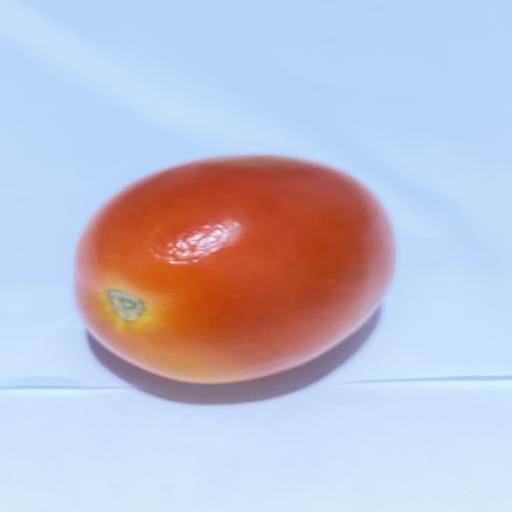overipe: (75, 156, 395, 383)
